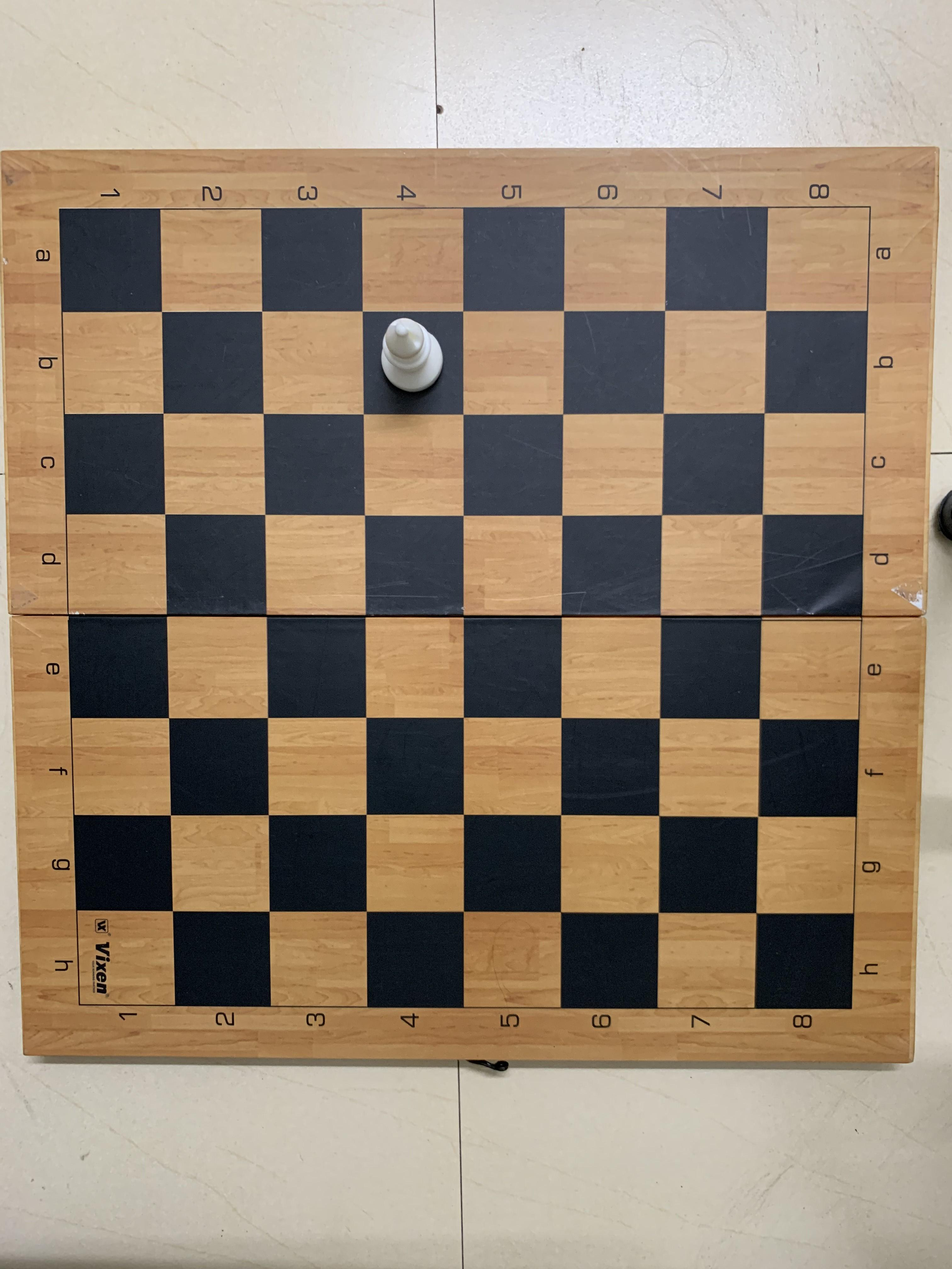white_bishop: (368, 315, 465, 416)
